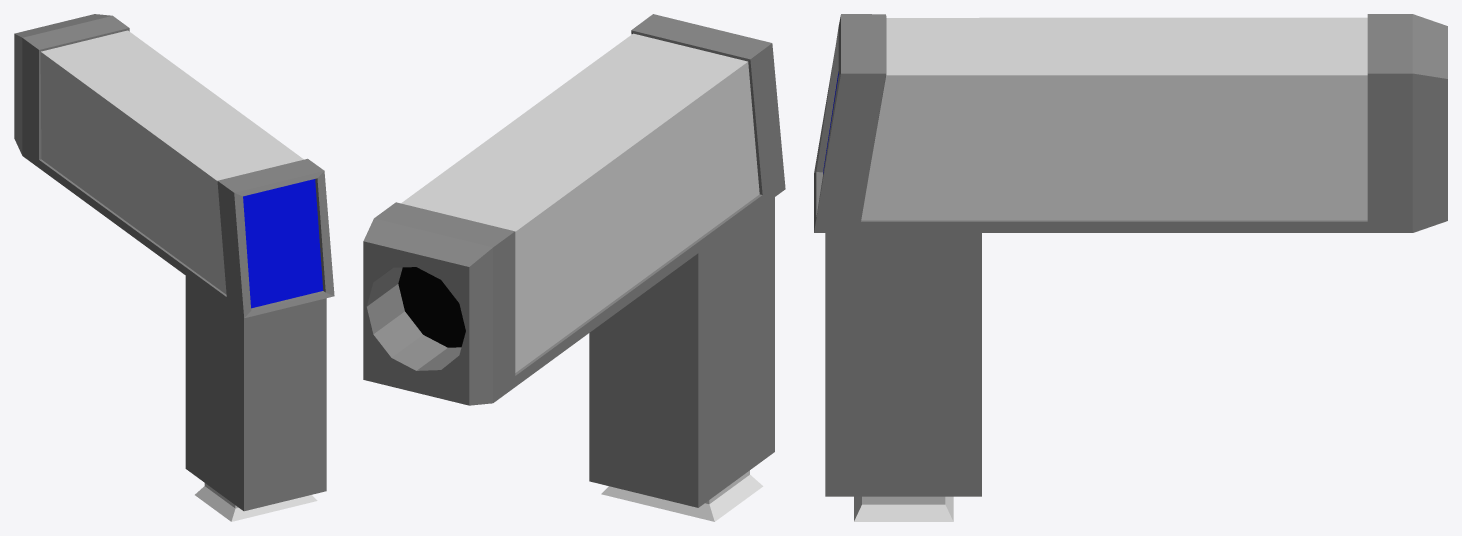
File: NextGenPistol.fbx
3 renders of one model, left to right at view 1: azimuth 30°, elevation 25°; view 2: azimuth 150°, elevation 25°; view 3: azimuth 270°, elevation 25°, orthographic. The views are drawn at different scales.
Visible parts, largest first — view 1: NextGenPistol; view 2: NextGenPistol; view 3: NextGenPistol.
Part boxes in pixels (x1,y1,x2,y2): NextGenPistol: [14, 14, 334, 521]; NextGenPistol: [363, 14, 785, 521]; NextGenPistol: [814, 14, 1447, 521].
Size of the model in its own units: 48 by 169 by 216.
